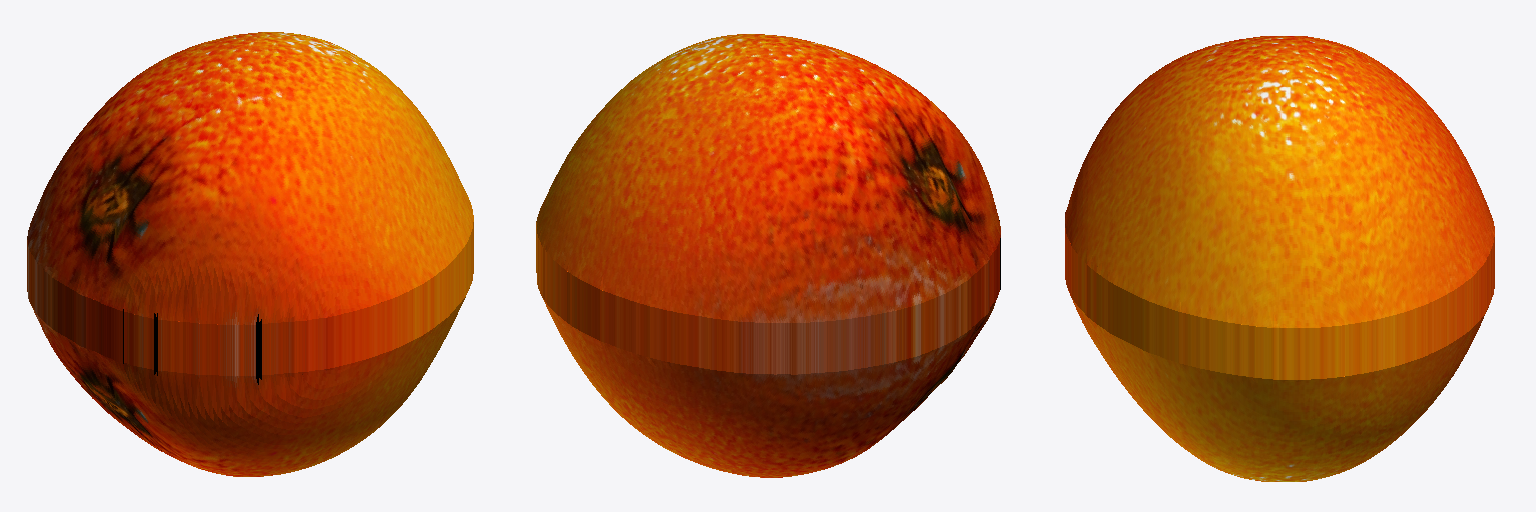
3 renders of one model, left to right at view 1: azimuth 30°, elevation 25°; view 2: azimuth 150°, elevation 25°; view 3: azimuth 270°, elevation 25°, orthographic.
Parts seen in each view (by area): view 1: Grid; view 2: Grid; view 3: Grid.
Boxes of the visible parts, box(x1,y1,x2,y2) form: Grid: box(27, 32, 473, 476); Grid: box(536, 34, 1000, 477); Grid: box(1065, 36, 1494, 481).
Size of the model in its own units: 1.64 by 1.6 by 1.52.
Materials: 1 (1 with a texture image).